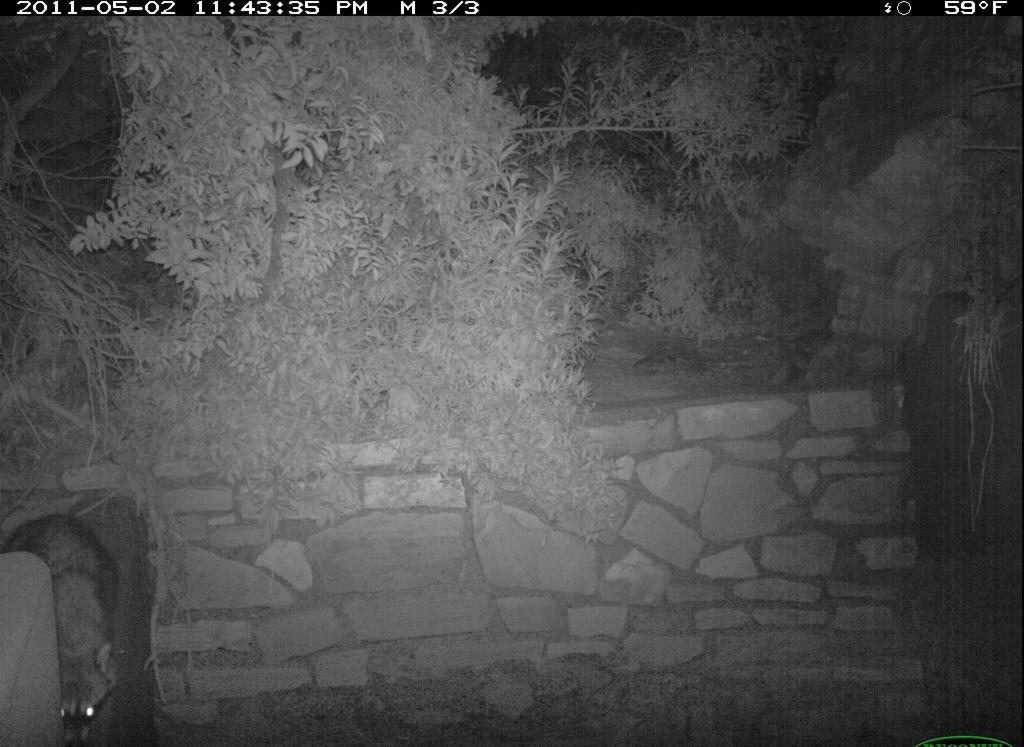raccoon: (3, 510, 130, 747)
